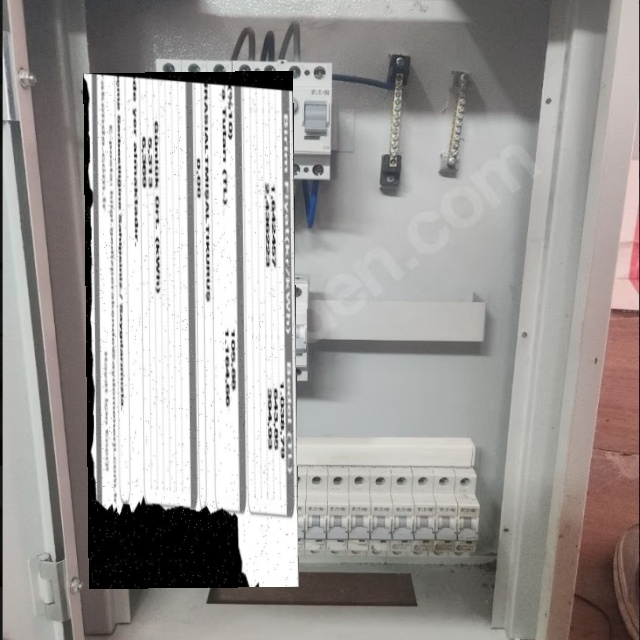electricity-bill: (82, 71, 298, 589)
